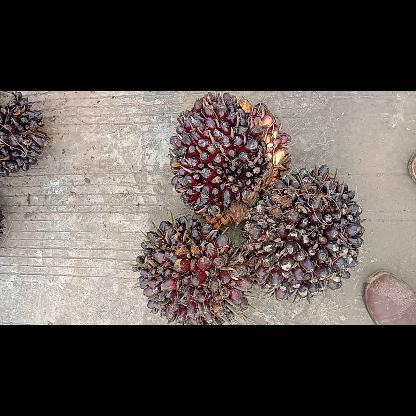TBS mentah: (237, 162, 366, 304), (166, 91, 292, 230), (132, 216, 254, 324)
